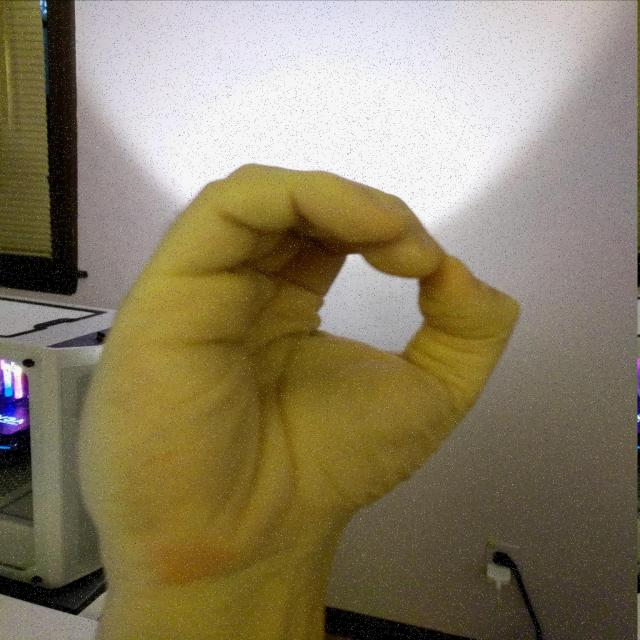O: (67, 158, 530, 582)
